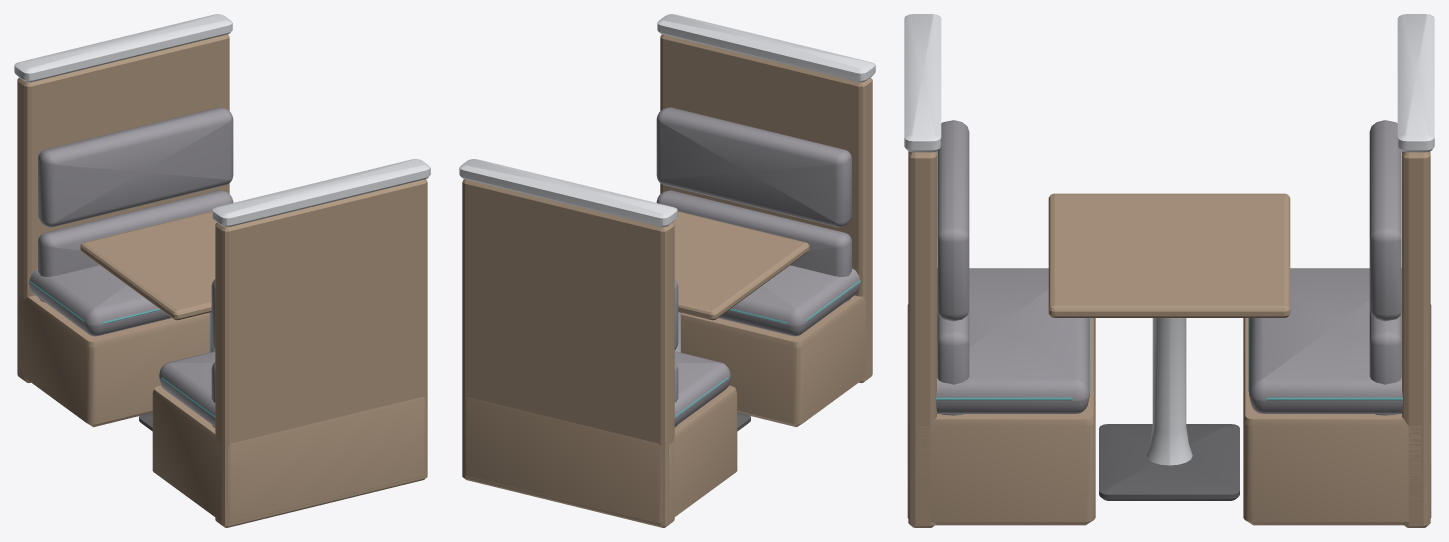
The model's file is fast-food-and-drive-thru-fixed-booth-2-seat-timber-8265c328__16224.glb.
The picture shows the model from 3 angles, left to right: view 1: azimuth 30°, elevation 25°; view 2: azimuth 150°, elevation 25°; view 3: azimuth 270°, elevation 25°; orthographic projection. The views are drawn at different scales.
Parts seen in each view (by area): view 1: fixed-booth-2-seat-timber; view 2: fixed-booth-2-seat-timber; view 3: fixed-booth-2-seat-timber.
Boxes of the visible parts, x1,y1,x2,y2 form: fixed-booth-2-seat-timber: (14, 14, 430, 527); fixed-booth-2-seat-timber: (459, 14, 875, 527); fixed-booth-2-seat-timber: (904, 14, 1434, 527).
Bounding box in the file's own units: 0.896 × 1.29 × 1.58.
